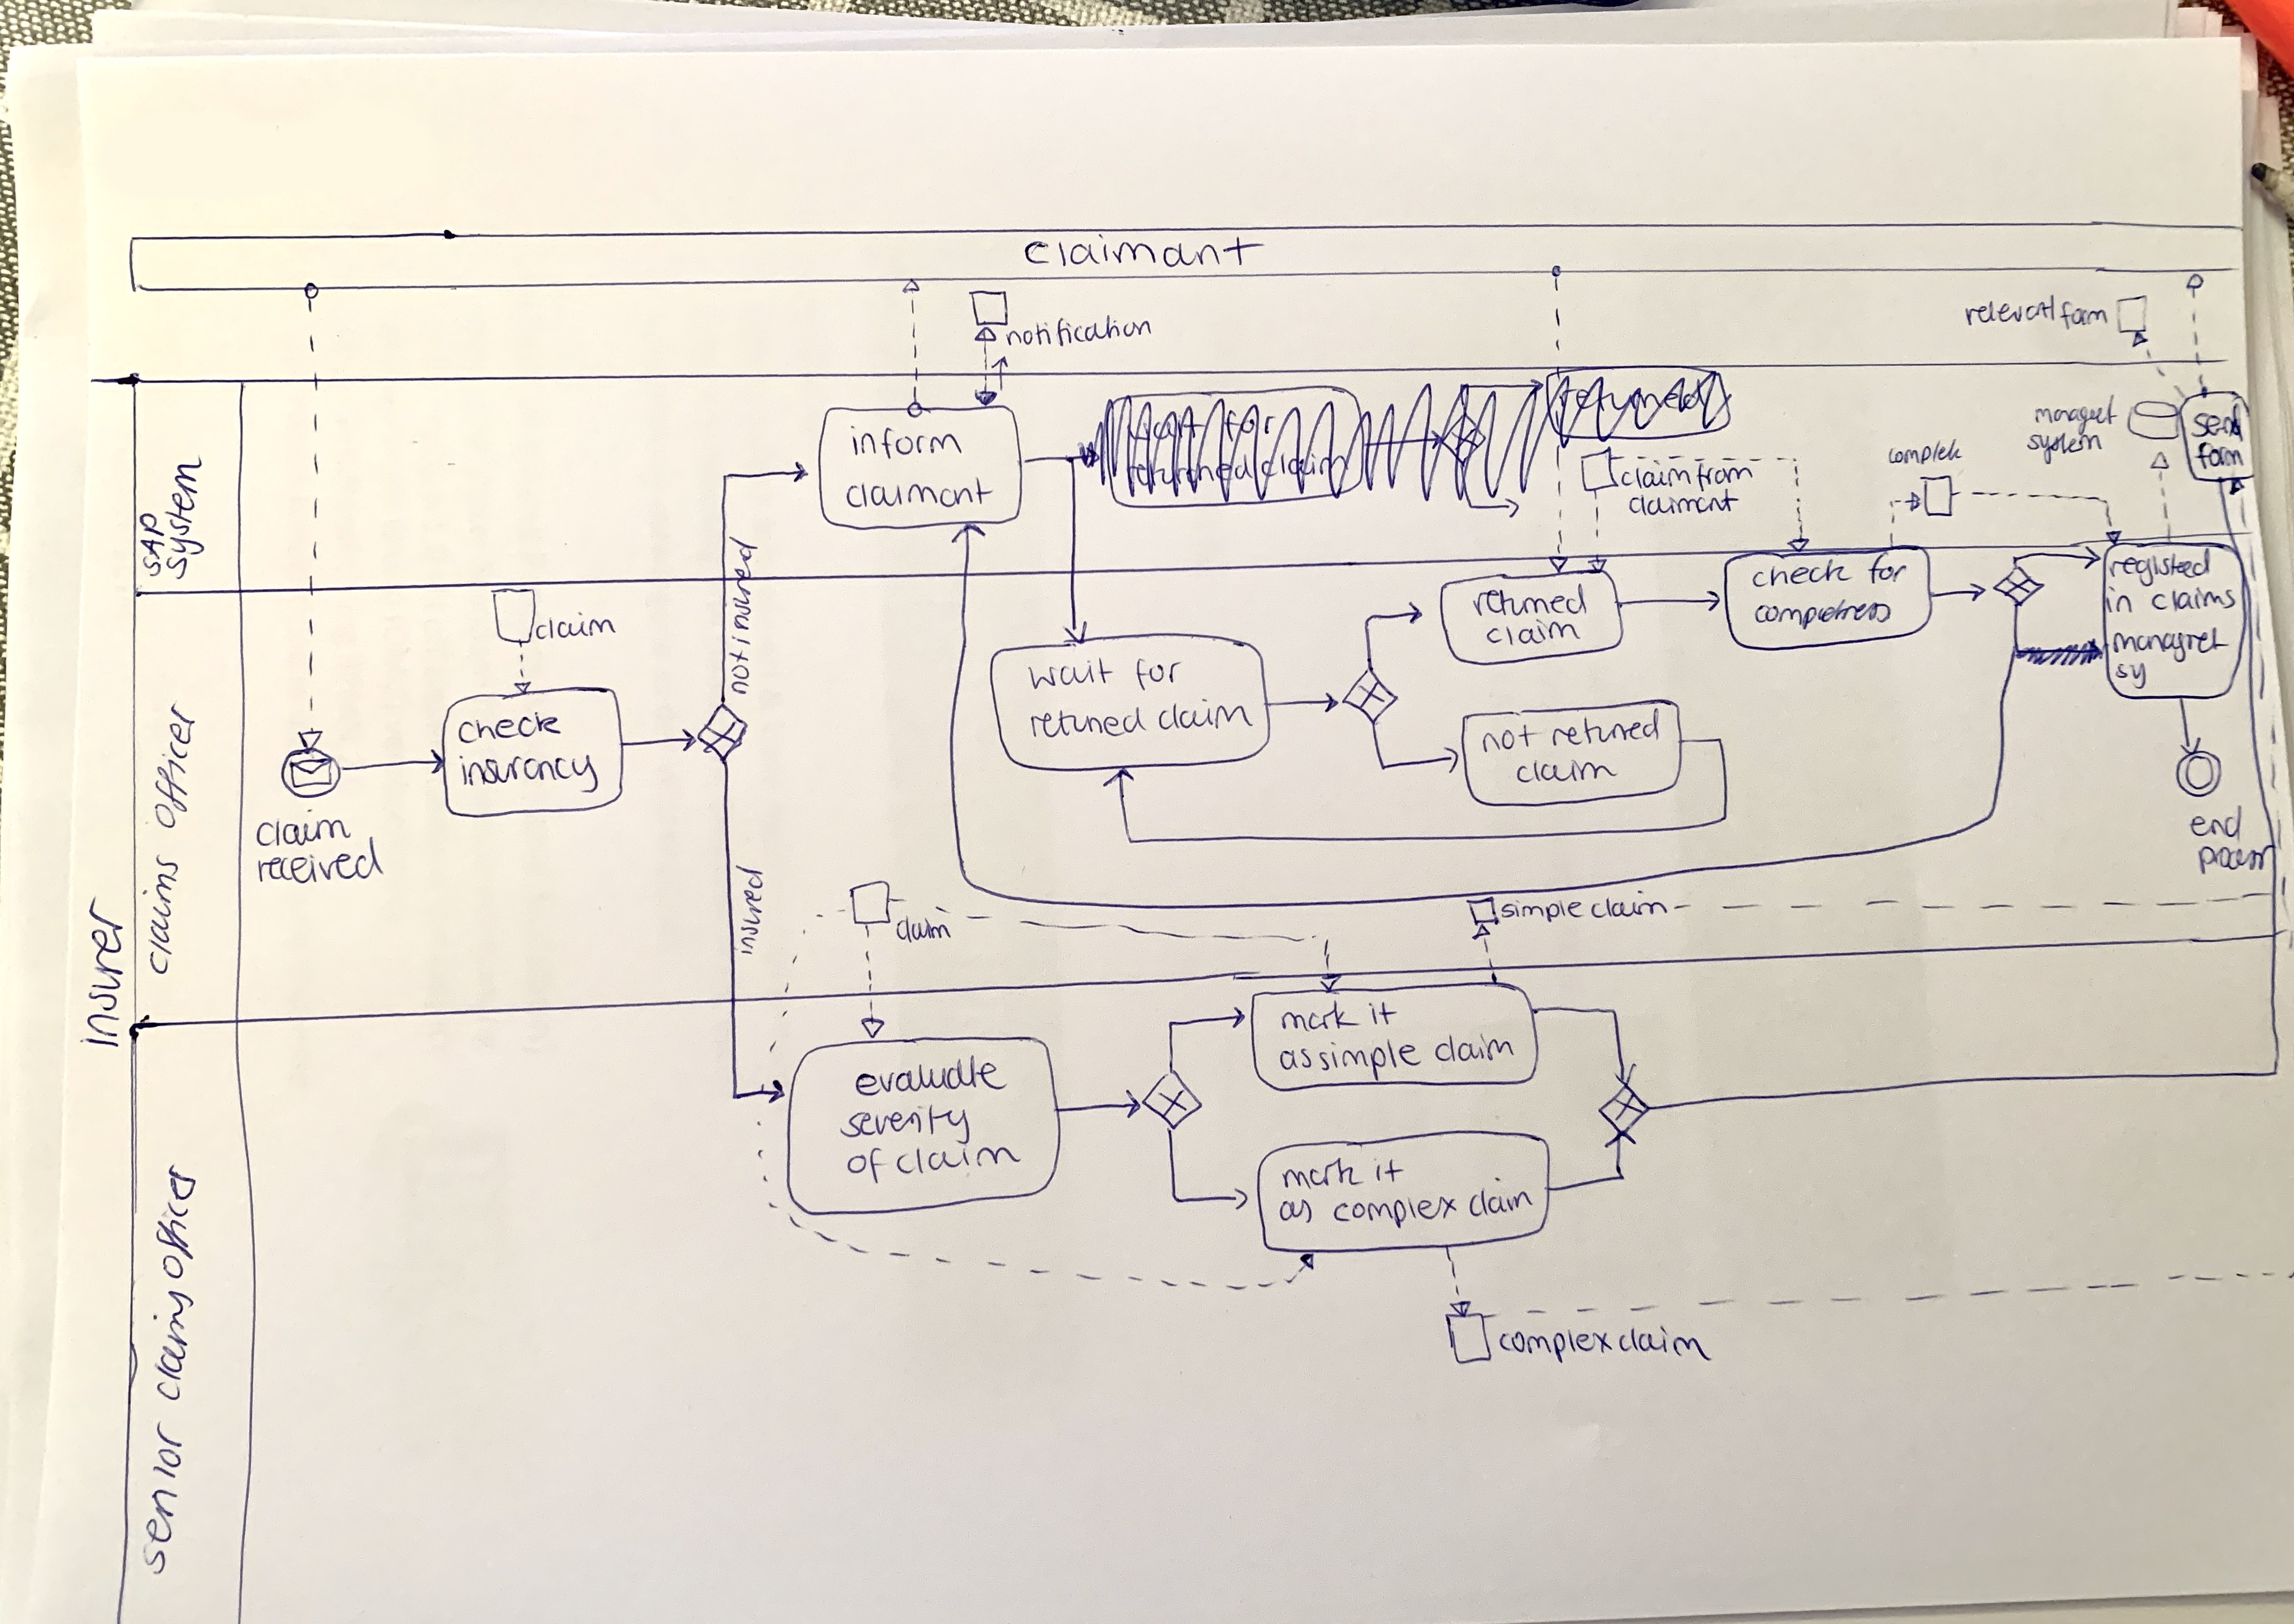SAP: (135, 513, 165, 573)
as: (1278, 1197, 1317, 1223), (1280, 1044, 1311, 1072)
check: (459, 708, 566, 747), (1749, 559, 1853, 587)
claim: (893, 1141, 1018, 1181), (1155, 694, 1257, 736), (250, 812, 353, 851), (1615, 1323, 1712, 1360), (1485, 617, 1582, 650), (1515, 758, 1617, 787), (1433, 1030, 1515, 1063), (1591, 891, 1668, 926), (538, 608, 615, 643), (1468, 1179, 1533, 1216), (1617, 460, 1691, 492), (895, 916, 953, 942)
claimant: (1028, 234, 1257, 271), (847, 476, 995, 513), (1628, 489, 1739, 522)
claims: (135, 851, 188, 974), (146, 1285, 197, 1404), (2152, 585, 2240, 619)
complete: (1886, 439, 1965, 471)
completeness: (1753, 598, 1893, 627)
complex: (1332, 1190, 1461, 1227), (1498, 1323, 1610, 1362)
end: (2189, 807, 2247, 842)
evaluate: (856, 1056, 1004, 1100)
for: (1130, 659, 1185, 691), (1865, 557, 1906, 589)
form: (2060, 297, 2108, 330), (2194, 441, 2241, 466)
from: (1696, 464, 1760, 487)
in: (2104, 589, 2138, 615)
inform: (849, 424, 967, 462)
insured: (726, 543, 758, 649), (737, 863, 766, 960)
insurency: (457, 750, 603, 791)
insurer: (77, 896, 128, 1056)
it: (1362, 998, 1397, 1030), (1368, 1155, 1405, 1185)
managed: (2034, 401, 2116, 429)
managret: (2111, 624, 2227, 661)
mark: (1283, 1000, 1361, 1035), (1283, 1158, 1355, 1193)
not: (1484, 722, 1535, 754), (726, 654, 754, 694)
notification: (1007, 311, 1155, 350)
of: (847, 1146, 889, 1183)
officer: (149, 705, 200, 830), (151, 1167, 202, 1280)
process: (2197, 842, 2275, 874)
received: (251, 844, 385, 889)
registered: (2113, 550, 2224, 589)
relevant: (1964, 290, 2055, 332)
retuned: (1028, 703, 1151, 743)
returned: (1550, 714, 1661, 752), (1471, 587, 1586, 619)
send: (2194, 413, 2241, 439)
senior: (137, 1417, 190, 1571)
severity: (840, 1102, 976, 1144)
simple: (1318, 1037, 1422, 1072), (1499, 893, 1586, 924)
sy: (2118, 663, 2146, 685)
system: (163, 459, 200, 576), (2025, 429, 2108, 460)
wait: (1030, 657, 1114, 692)
